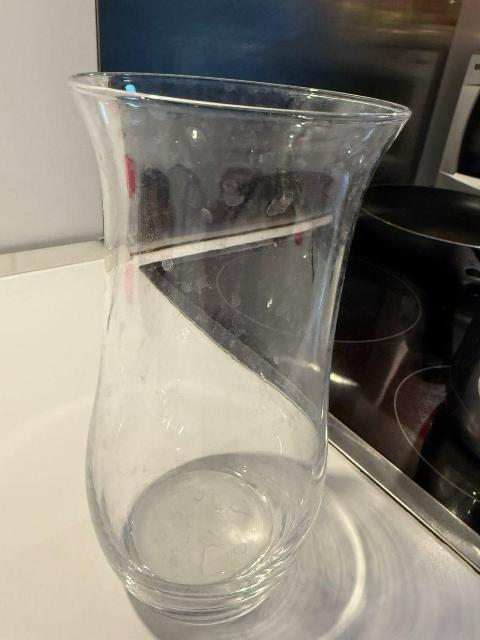Cam: (63, 72, 415, 623), (46, 526, 48, 529)
